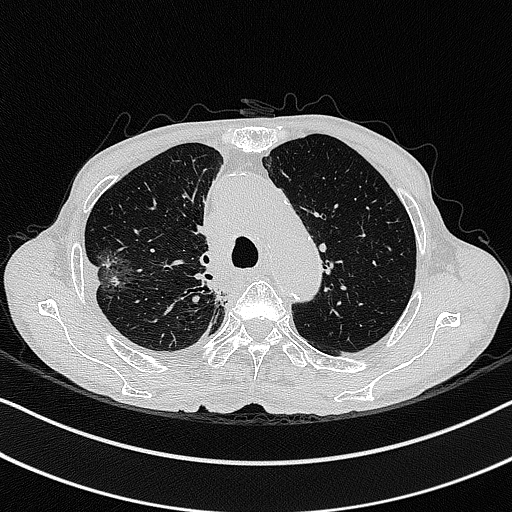nodule: (96, 249, 131, 292)
